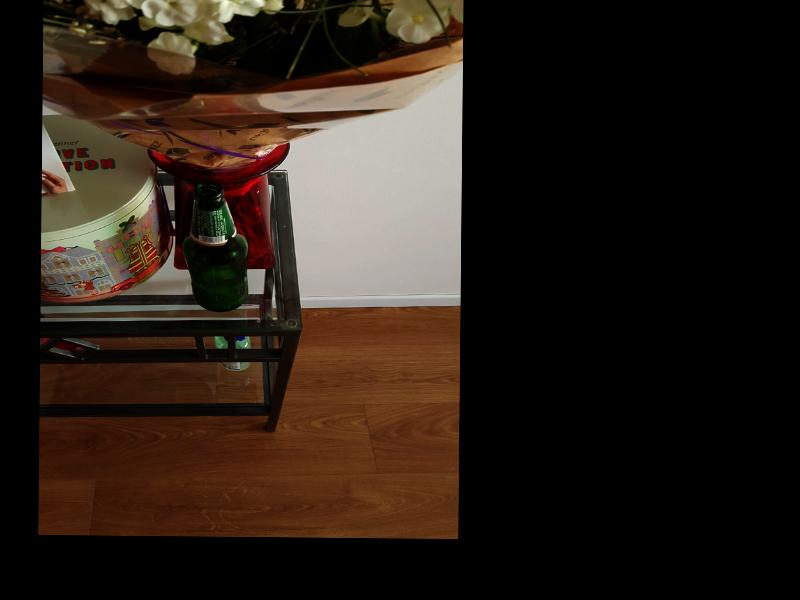Beer: (181, 183, 249, 313)
